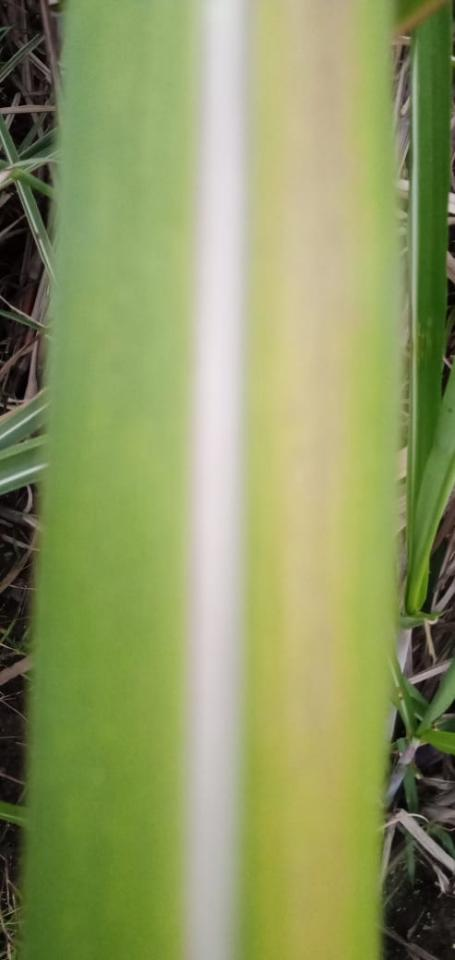Yellow: (289, 0, 352, 959)
